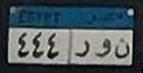4: (16, 31, 31, 60), (46, 31, 60, 62), (31, 31, 45, 60)
noon: (114, 37, 131, 61)
raa: (73, 37, 90, 62)
waw: (93, 35, 112, 62)
